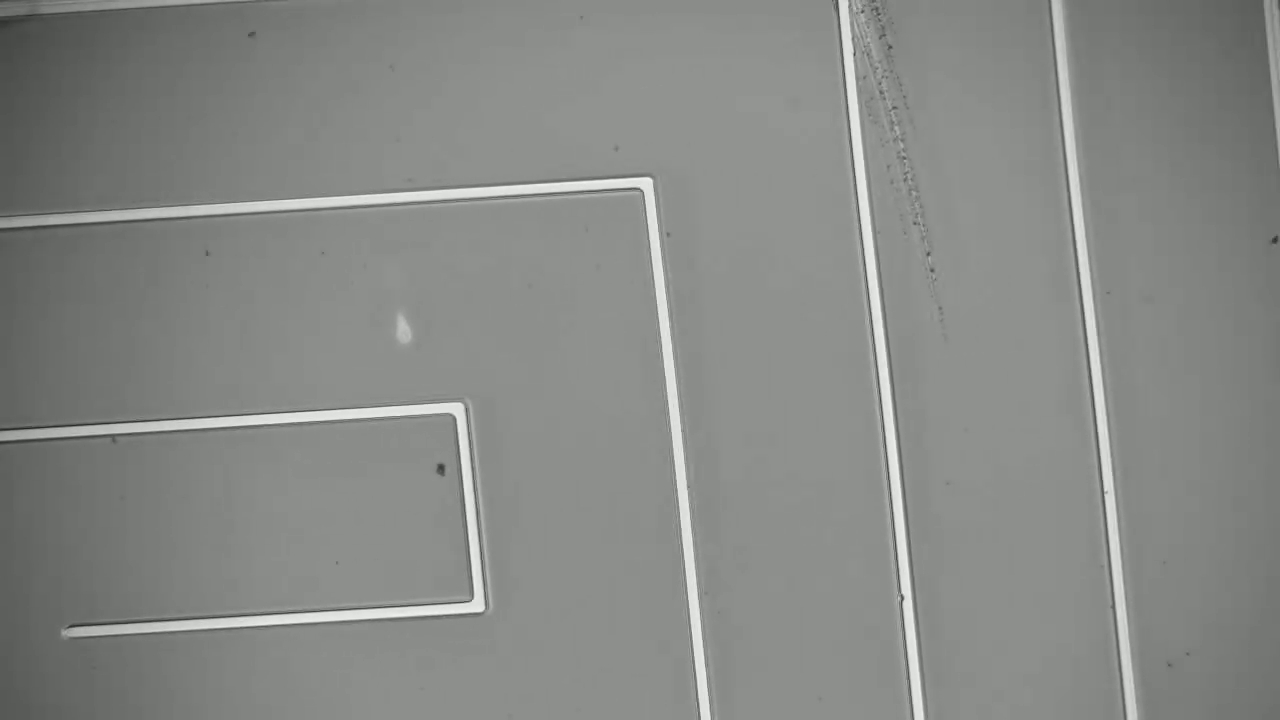scratch: (848, 10, 949, 328)
